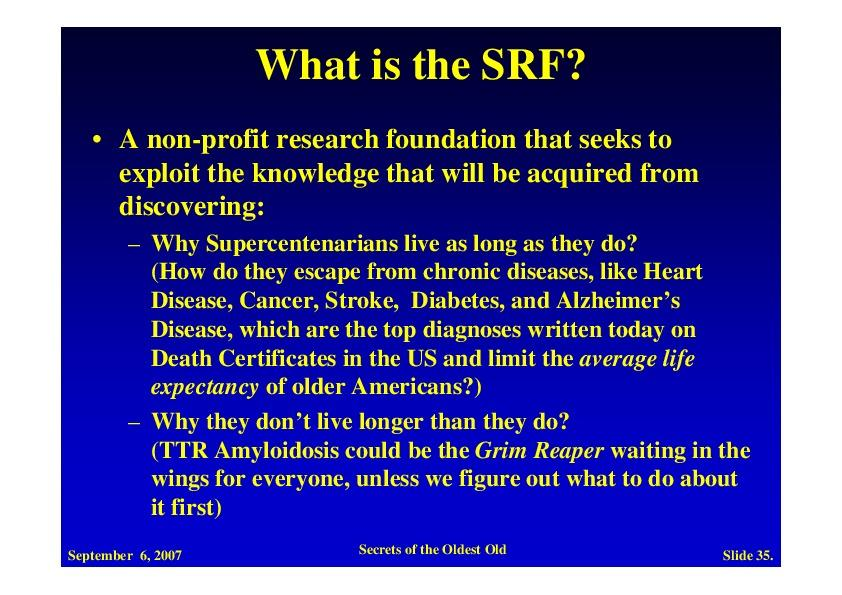paragraph: (112, 121, 762, 528)
subtitle: (60, 537, 782, 568)
title: (251, 38, 594, 94)
